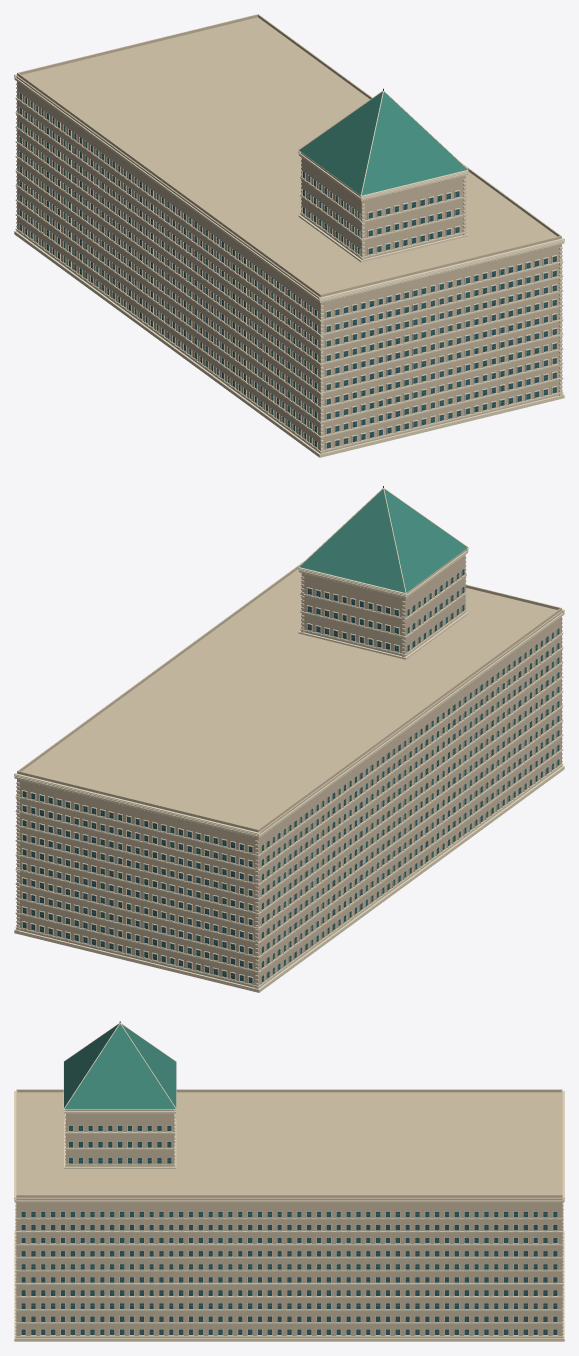
The model's file is peace-hotel.glb.
The picture shows the model from 3 angles, top to bottom: view 1: azimuth 30°, elevation 25°; view 2: azimuth 150°, elevation 25°; view 3: azimuth 270°, elevation 25°; orthographic projection. The views are drawn at different scales.
Visible parts, largest first — view 1: peace-hotel; view 2: peace-hotel; view 3: peace-hotel.
Part boxes in pixels (box(x1,y1,x2,y2)): peace-hotel: box(14, 14, 564, 457); peace-hotel: box(14, 486, 564, 992); peace-hotel: box(14, 1021, 564, 1341).
Size of the model in its own units: 66.63 by 77 by 144.
